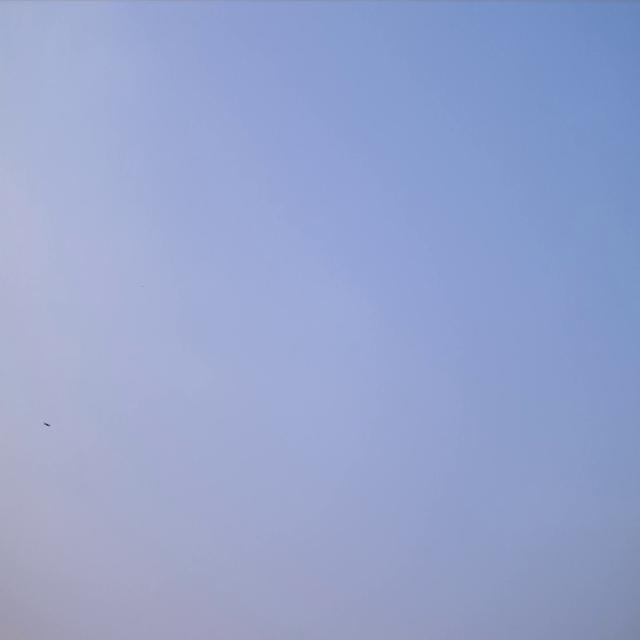UAV: (43, 421, 51, 428)
